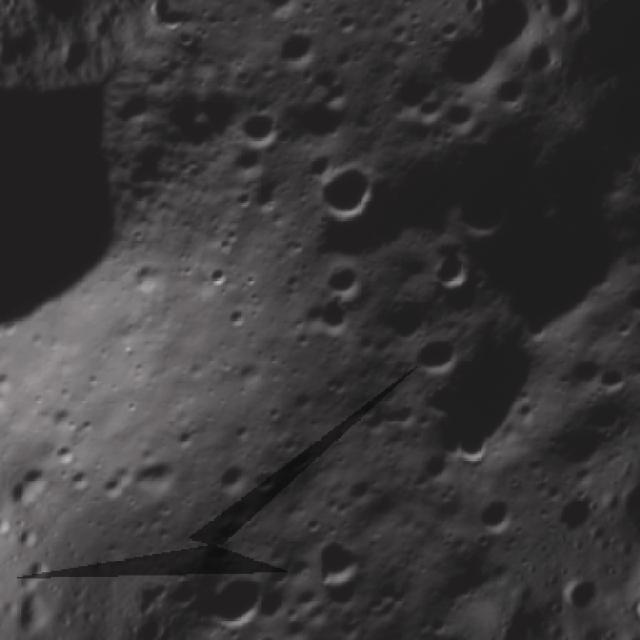crater: (297, 141, 392, 237), (194, 557, 289, 640), (285, 75, 373, 163), (299, 522, 383, 607), (422, 17, 507, 101), (116, 436, 196, 518), (308, 240, 384, 317), (403, 322, 474, 393), (262, 15, 330, 84), (435, 412, 502, 480), (229, 96, 294, 161), (417, 238, 481, 302), (467, 484, 530, 548), (432, 78, 493, 140), (216, 450, 264, 499), (490, 61, 536, 108), (615, 273, 640, 327), (255, 0, 312, 23), (241, 618, 288, 640), (634, 305, 640, 346), (637, 242, 640, 303)
